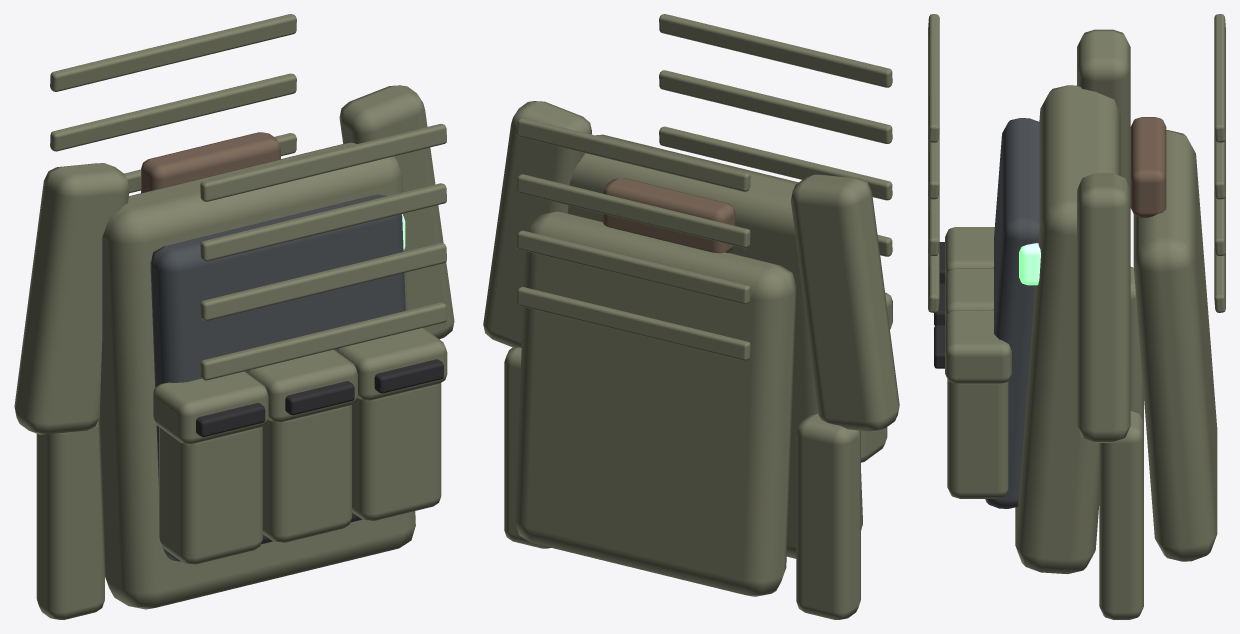
Rendered from fps-survival-forest-outpost-plate-carrier-2ac4f423__32665.glb.
The picture shows the model from 3 angles, left to right: view 1: azimuth 30°, elevation 25°; view 2: azimuth 150°, elevation 25°; view 3: azimuth 270°, elevation 25°; orthographic projection. The views are drawn at different scales.
Parts seen in each view (by area): view 1: plate-carrier; view 2: plate-carrier; view 3: plate-carrier.
Part boxes in pixels (<box>): plate-carrier: <box>14,14,454,619</box>; plate-carrier: <box>483,14,899,619</box>; plate-carrier: <box>928,14,1225,619</box>.
Bounding box in the file's own units: 0.5253 × 0.5811 × 0.333.
